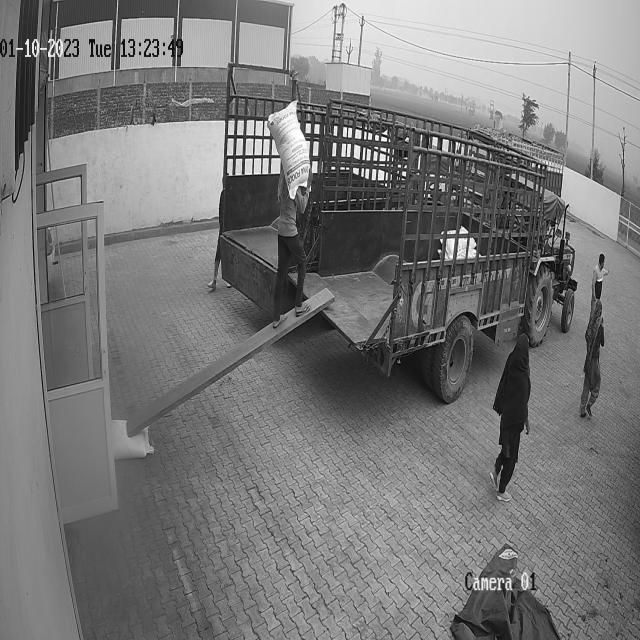sack: (267, 98, 311, 200), (112, 419, 154, 460)
